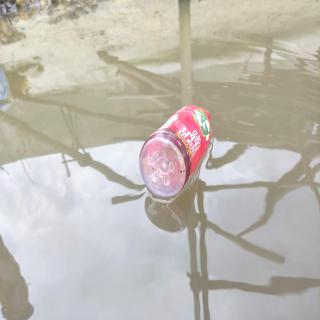bottle: (135, 100, 217, 202)
